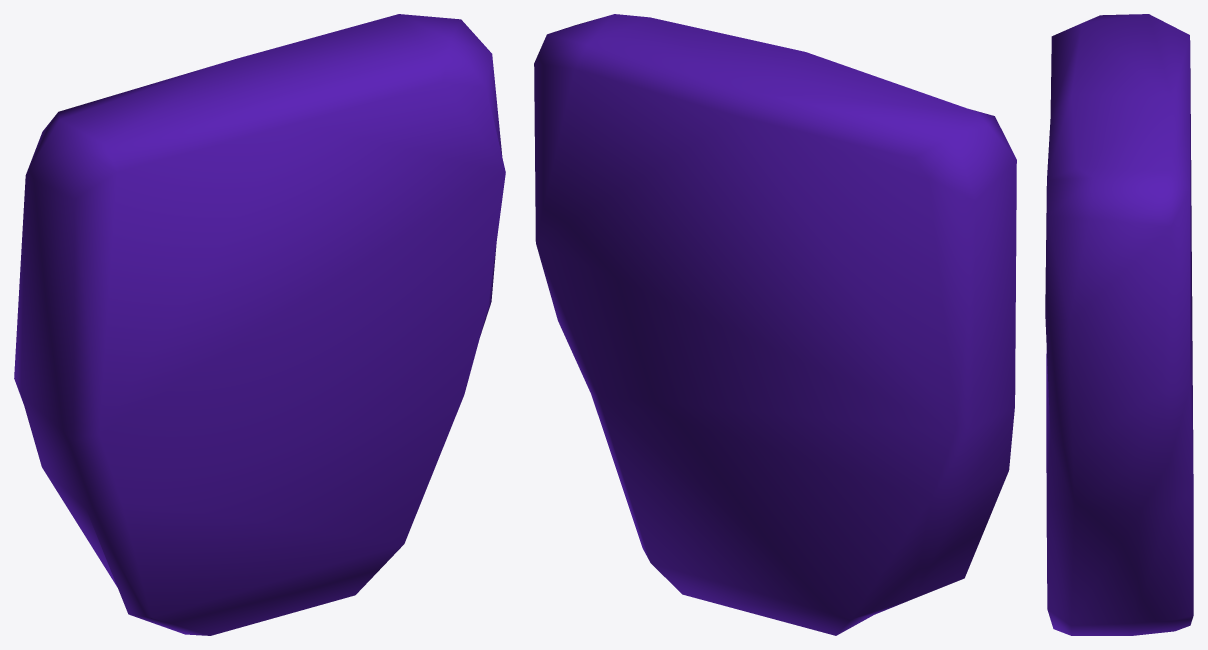
The model's file is arch_03.FBX.
3 views of the same model, side by side, from view 1: azimuth 30°, elevation 25°; view 2: azimuth 150°, elevation 25°; view 3: azimuth 270°, elevation 25° (orthographic). The views are drawn at different scales.
Visible parts, largest first — view 1: arch_03; view 2: arch_03; view 3: arch_03.
Part boxes in pixels (bbox=[...]): arch_03: bbox=[14, 14, 505, 635]; arch_03: bbox=[534, 14, 1016, 635]; arch_03: bbox=[1045, 14, 1193, 635].
Bounding box in the file's own units: 14.28 × 16.33 × 4.28.
